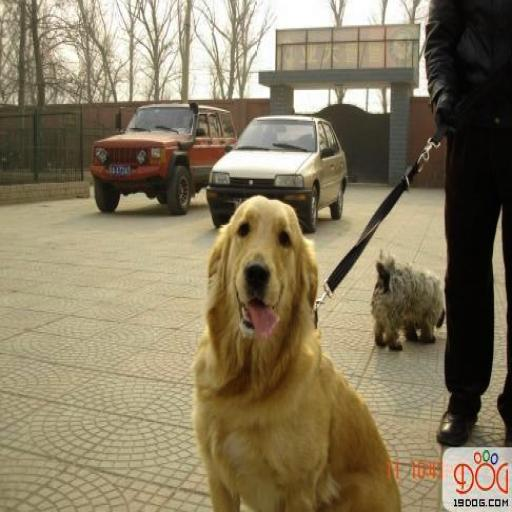dog_face: (215, 201, 310, 338)
